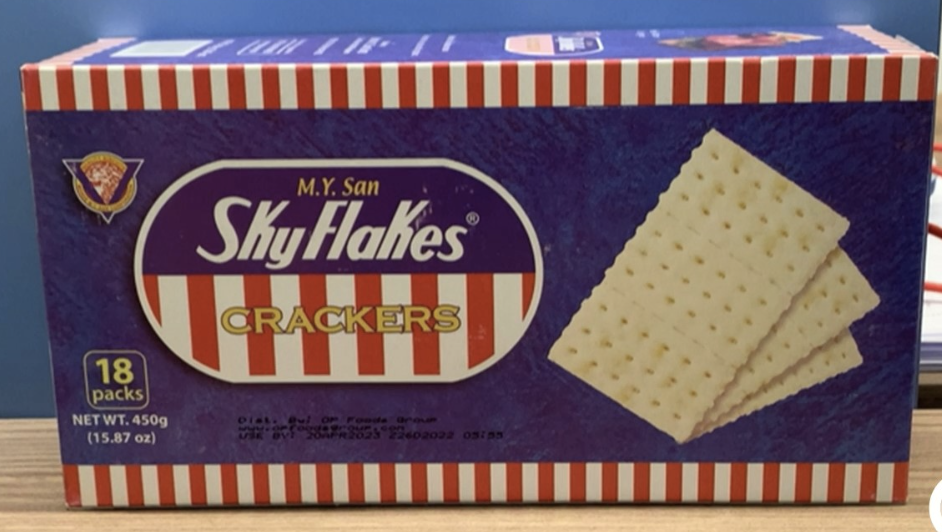crackers_450g: (63, 90, 895, 469)
